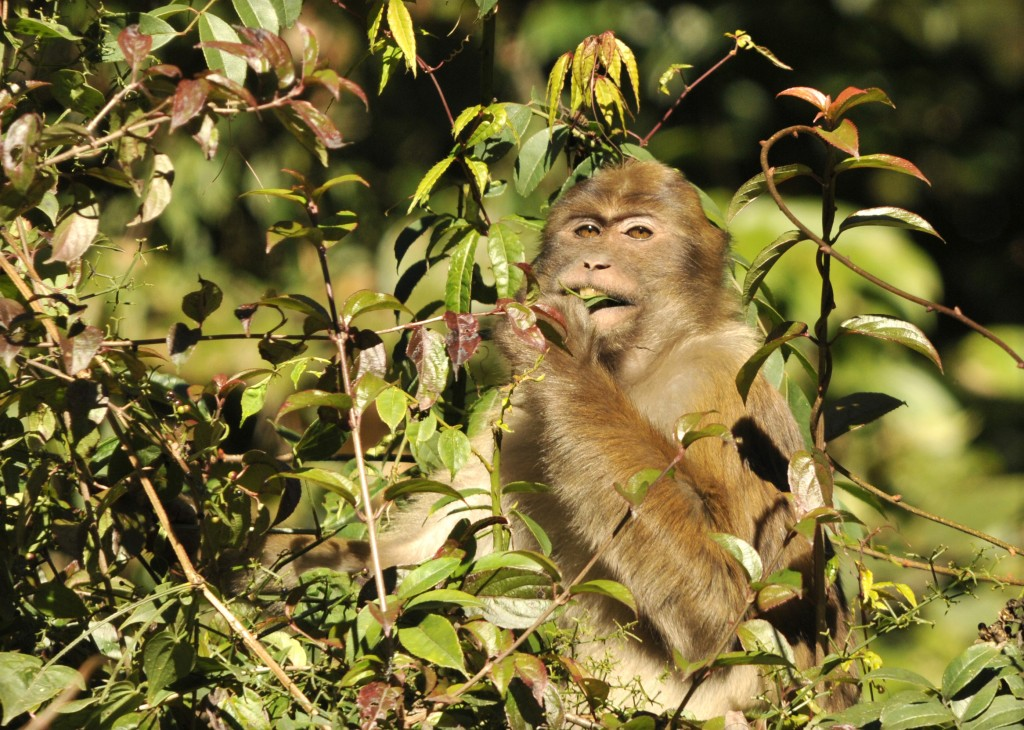monkey: (459, 133, 856, 724)
